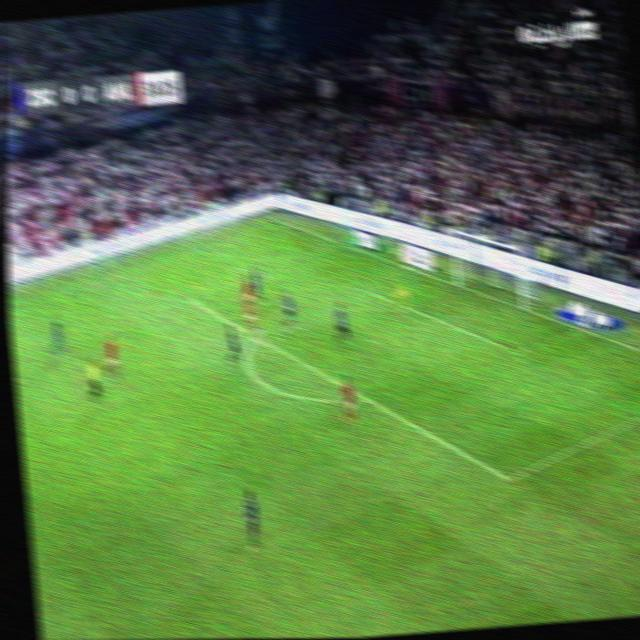bigarea_bottom_inner: (495, 466, 518, 487)
bigarea_top_inner: (171, 285, 192, 303)
bigarea_top_outter: (331, 234, 348, 250)
bottom_arc_area_intersection: (356, 389, 375, 407)
corner: (258, 210, 278, 222)
smallarea_bottom_inner: (507, 339, 528, 362)
smallarea_bottom_outter: (569, 320, 588, 335)
smallarea_top_inner: (352, 278, 371, 293)
smallarea_top_outter: (403, 260, 421, 277)
top_arc_area_intersection: (246, 326, 264, 345)
